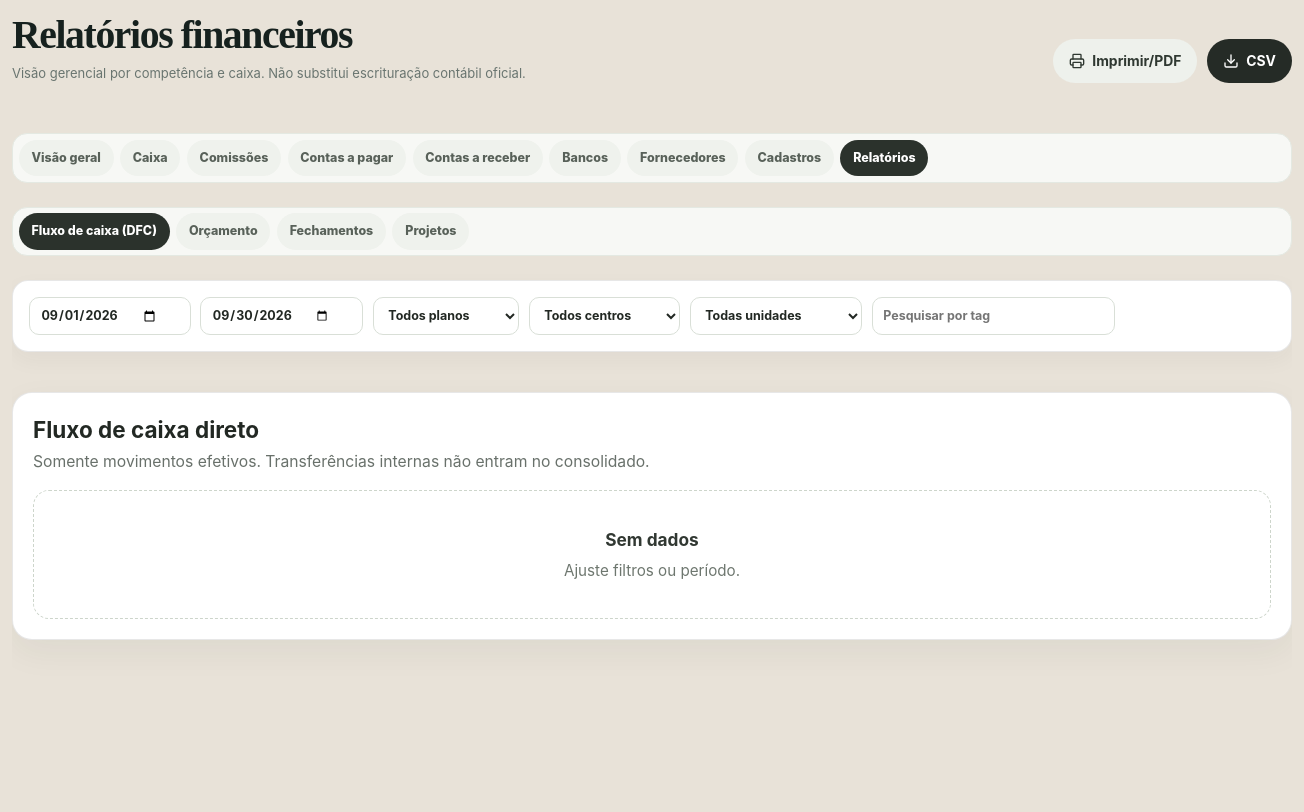
manager commissions › shows the Projetos report only while its module is enabled
Click the button "Projetos": (431, 231) [392,213,469,250]
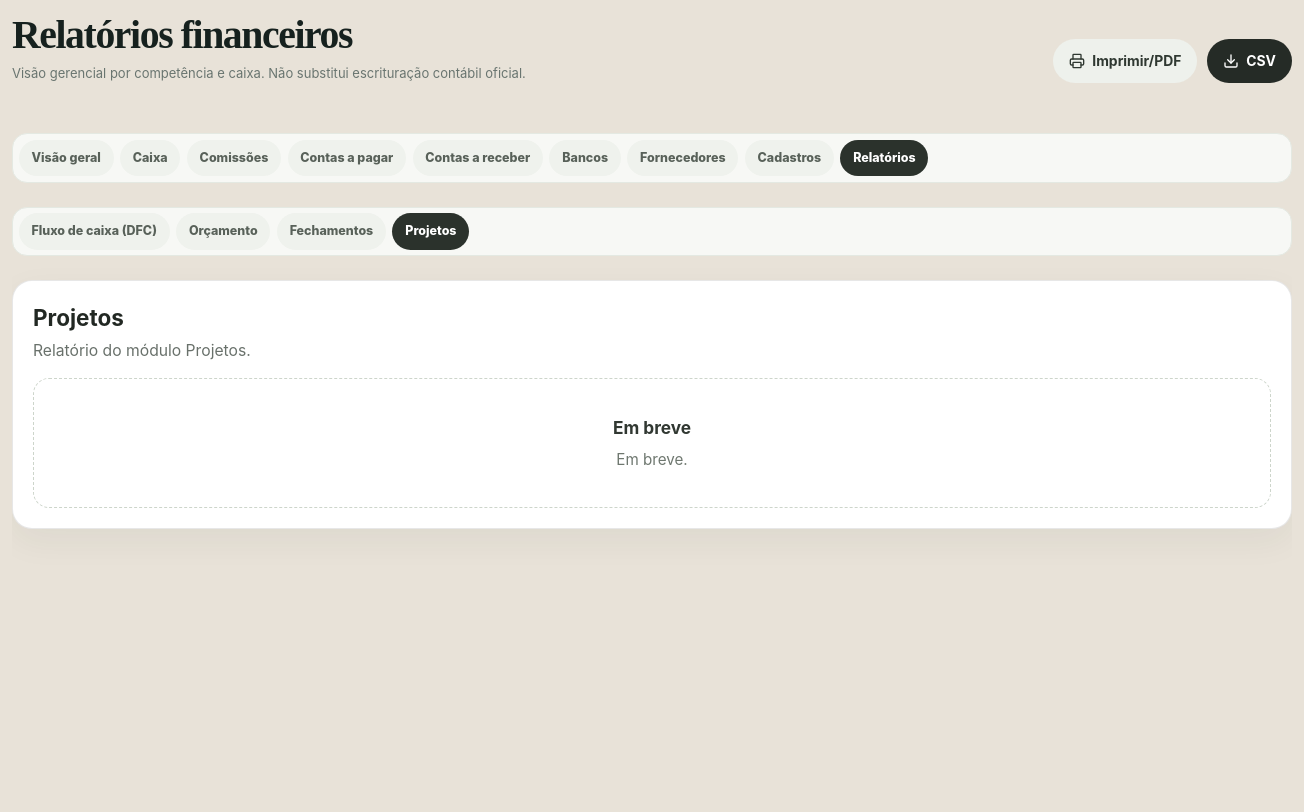
Check: the text "Em breve." is shown, box [616,449,688,471]
